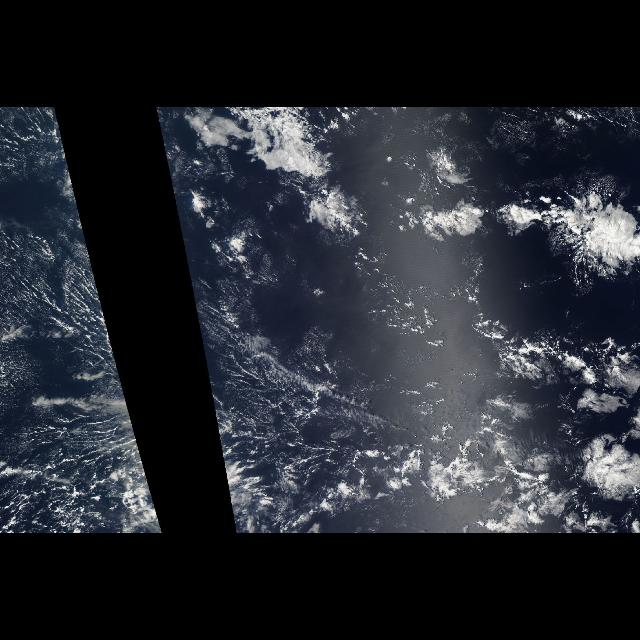Fish: (190, 108, 384, 248)
Flower: (422, 153, 640, 532)
Gravel: (24, 242, 118, 366)
Sugar: (0, 107, 136, 435), (178, 219, 334, 435)
